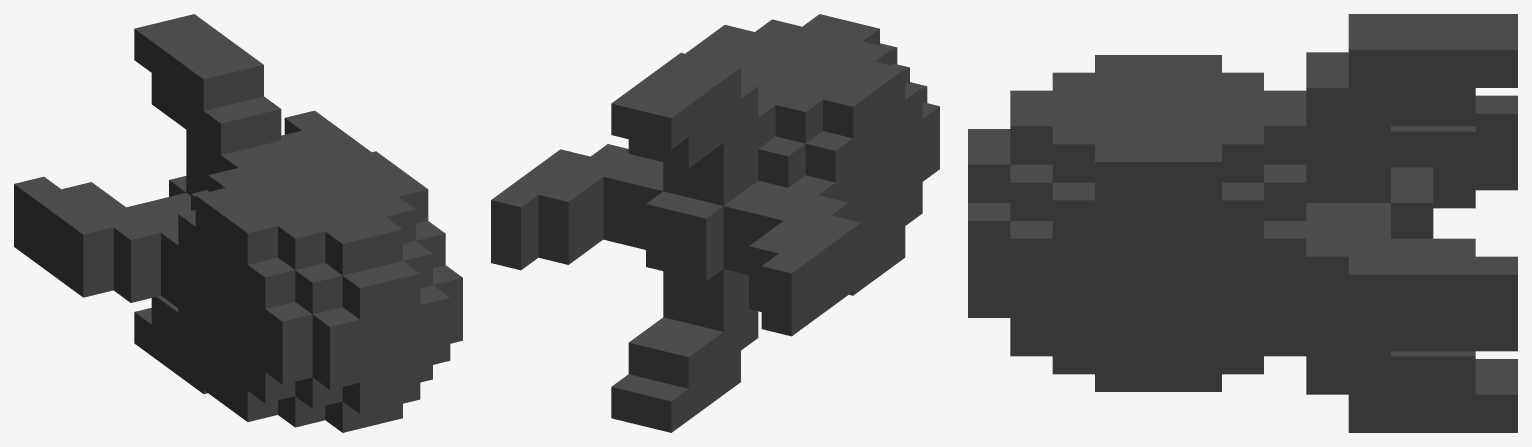
Rendered from rocket.obj.
The picture shows the model from 3 angles, left to right: view 1: azimuth 30°, elevation 25°; view 2: azimuth 150°, elevation 25°; view 3: azimuth 270°, elevation 25°; orthographic projection. The views are drawn at different scales.
Bounding box in the file's own units: 1 × 1 × 1.3.
